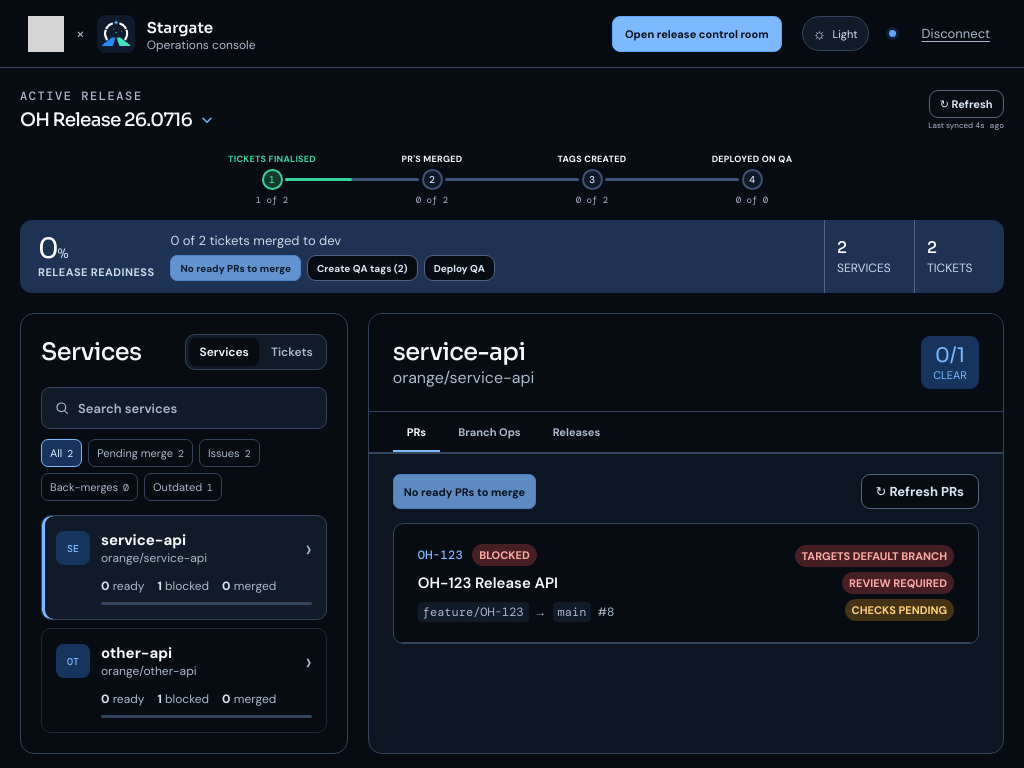
Test: ReleaseOverview › filters services whose latest QA build is not live
The image size is (1024, 768).
Step 1. Click the button "Outdated 1" → coordinates (183, 487), box [144,473,222,501]
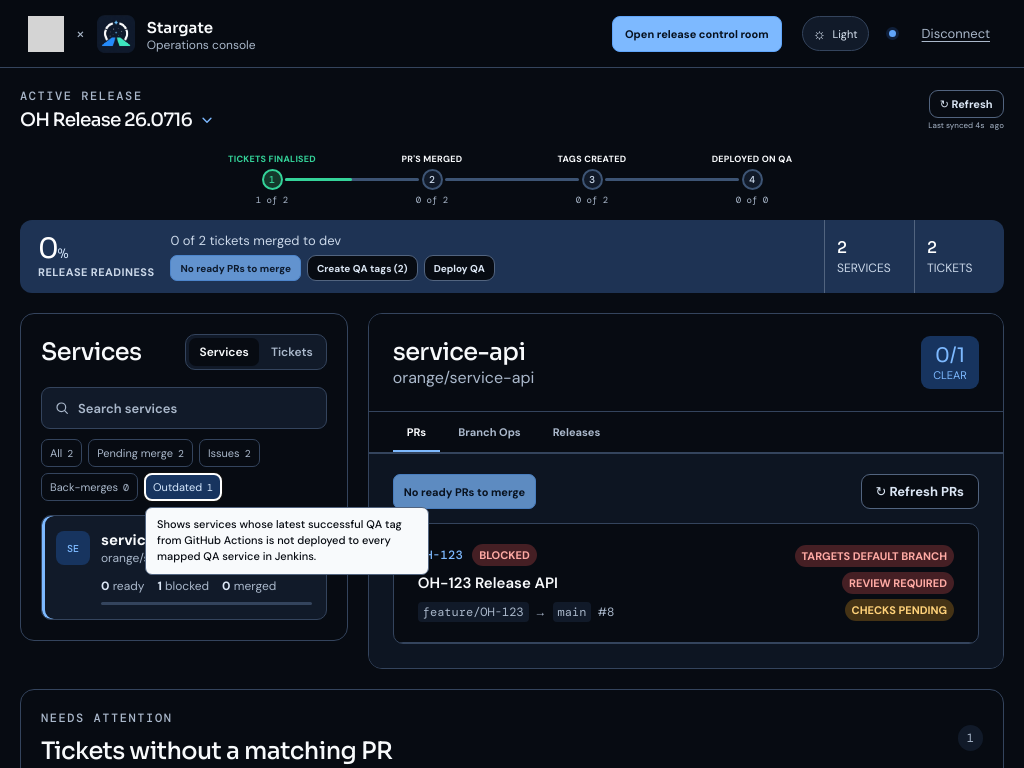
Expected: the 2nd text "orange/service-api" is shown, [101,550,207,566]
Result: the button "orange/other-api" is gone
